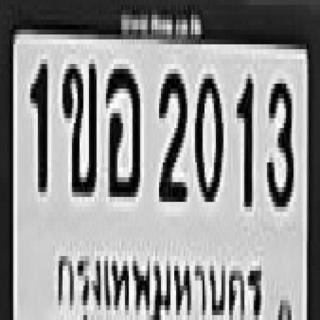A02: (61, 59, 95, 192)
A43: (104, 64, 138, 192)
N00: (193, 69, 222, 197)
N01: (28, 59, 46, 187), (235, 71, 252, 204)
N02: (157, 69, 186, 197)
N03: (265, 79, 292, 202)
